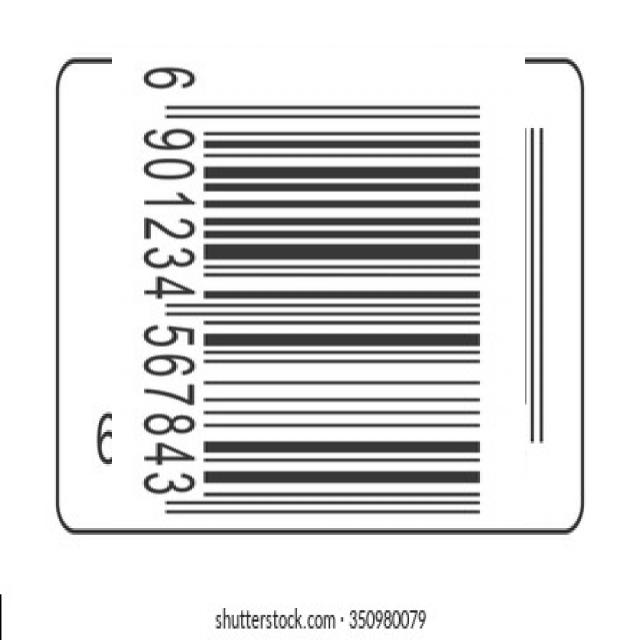Barkod: (97, 67, 540, 510)
